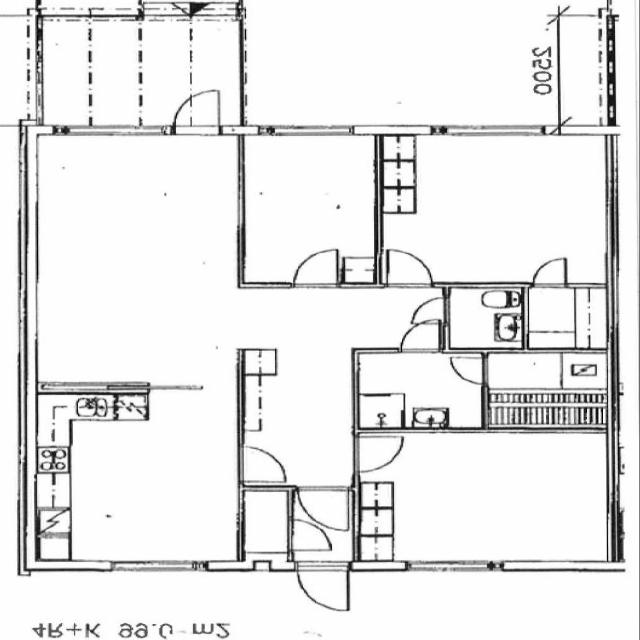door: (298, 561, 348, 611), (298, 487, 349, 531), (175, 91, 220, 135), (238, 447, 290, 482), (388, 248, 432, 287), (354, 438, 404, 472), (294, 249, 338, 287), (288, 520, 332, 550), (402, 320, 439, 354), (448, 358, 488, 384), (412, 298, 450, 324), (534, 258, 566, 287)
